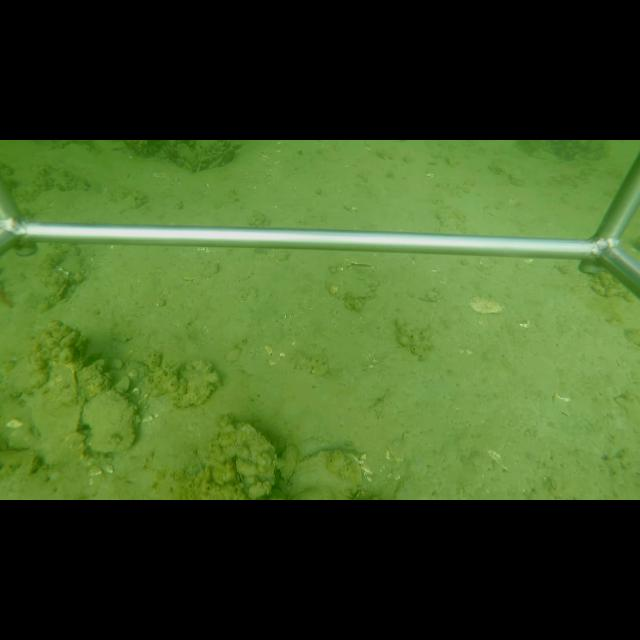Oyster-Closed: (280, 449, 366, 500), (78, 390, 140, 455), (233, 422, 279, 497)
